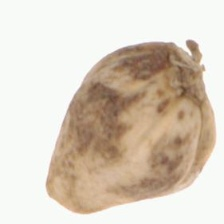L1: (169, 40, 210, 105), (44, 180, 84, 217)
L2: (46, 39, 217, 216)
